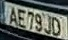7: (27, 10, 34, 30)
9: (34, 13, 42, 32)
A: (8, 6, 18, 26)
D: (51, 16, 61, 36)
E: (16, 7, 26, 29)
J: (43, 15, 51, 34)
